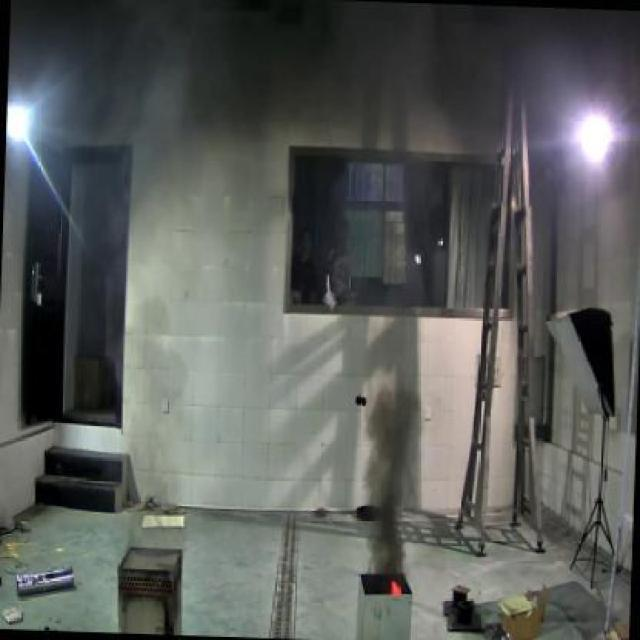fire: (359, 380, 424, 574)
